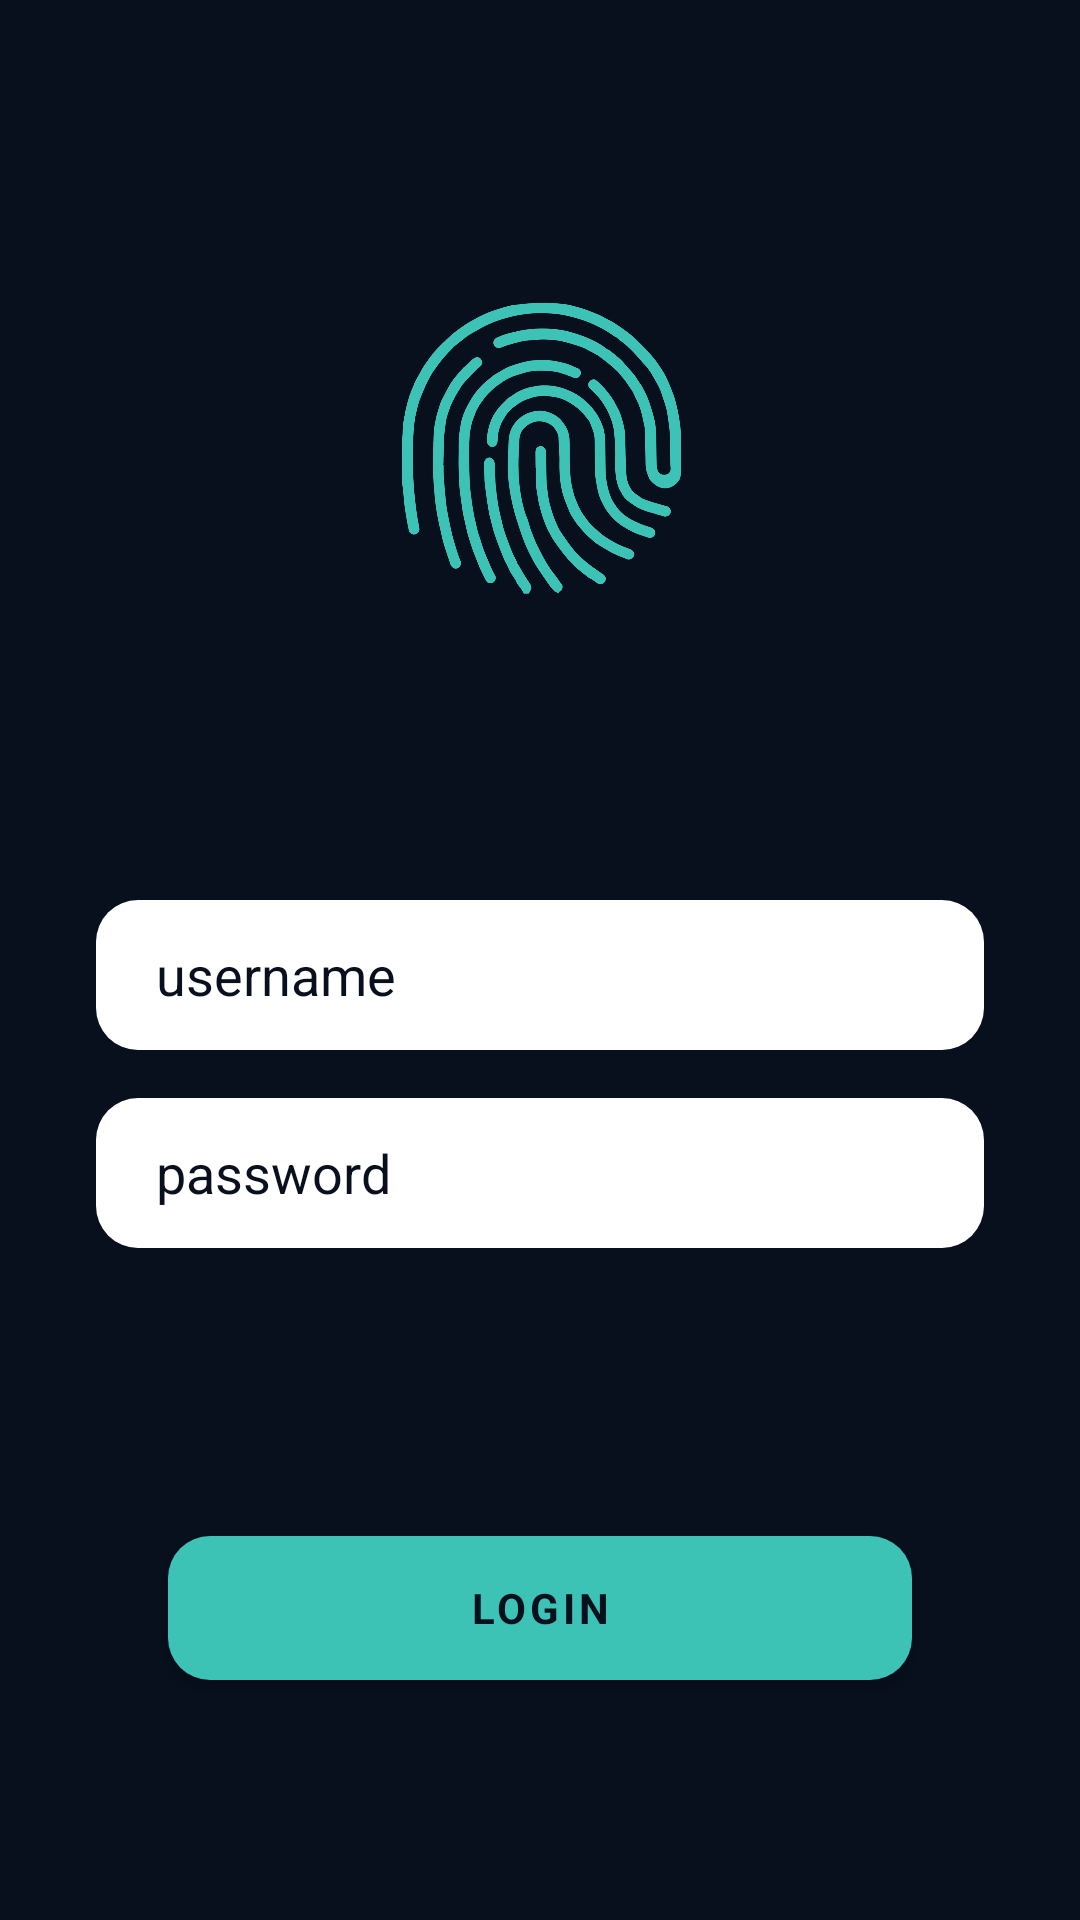

Point at icon controls on the screen. Image size 1080*1920, points as point (x, y).
finger print: point (541, 448)
